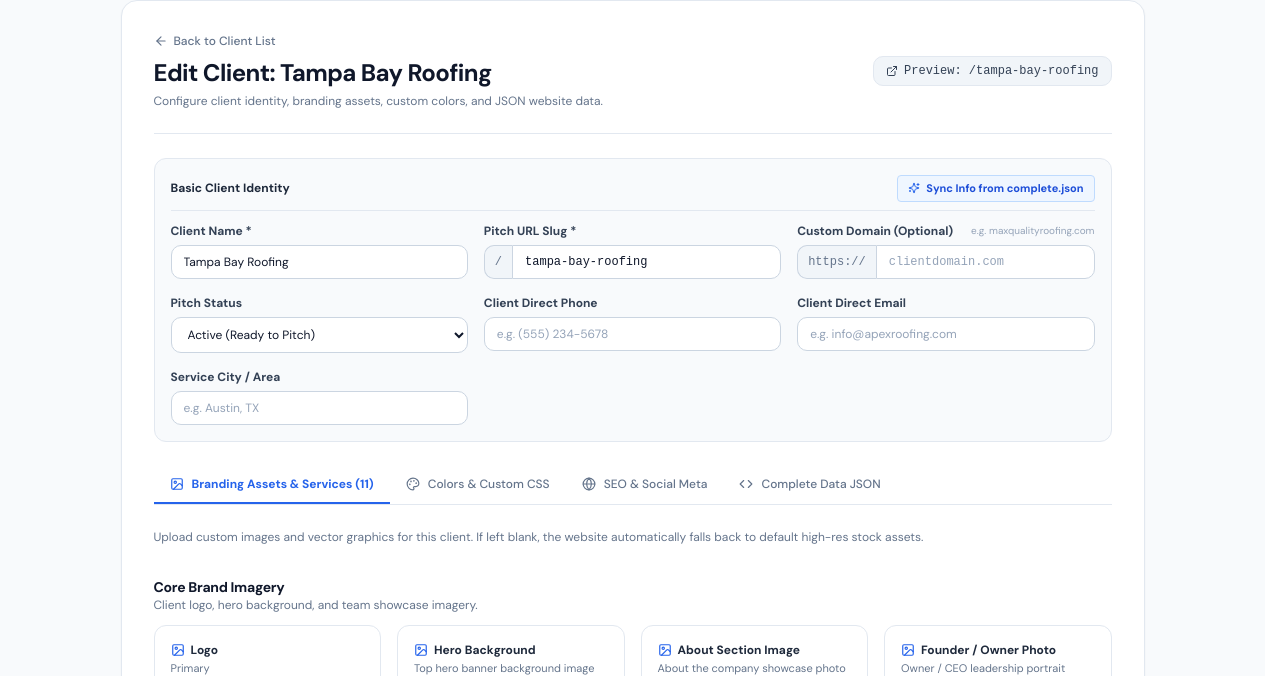
Test case: ClientEditor Component › switches to SEO & Social Meta tab and renders Google and OpenGraph previews with auto-generation
The image size is (1280, 676).
Click the button "SEO & Social Meta" at (645, 484), box 566,466 -> 724,504
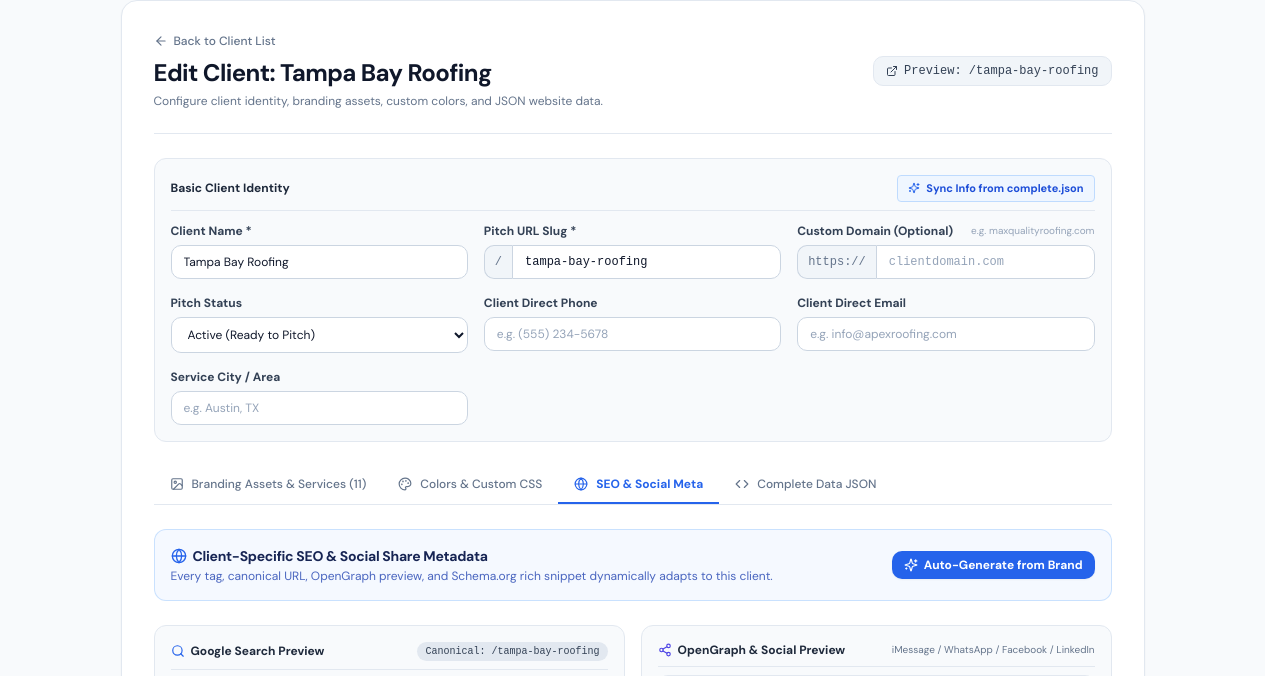
Result: the text "Google Search Preview" is shown at 170,643 -> 324,659
Result: the text "OpenGraph & Social Preview" is shown at 658,642 -> 845,658
Result: the button "Auto-Generate from Brand" is shown
Click the button "Auto-Generate from Brand" at (993, 564), box 892,550 -> 1094,578
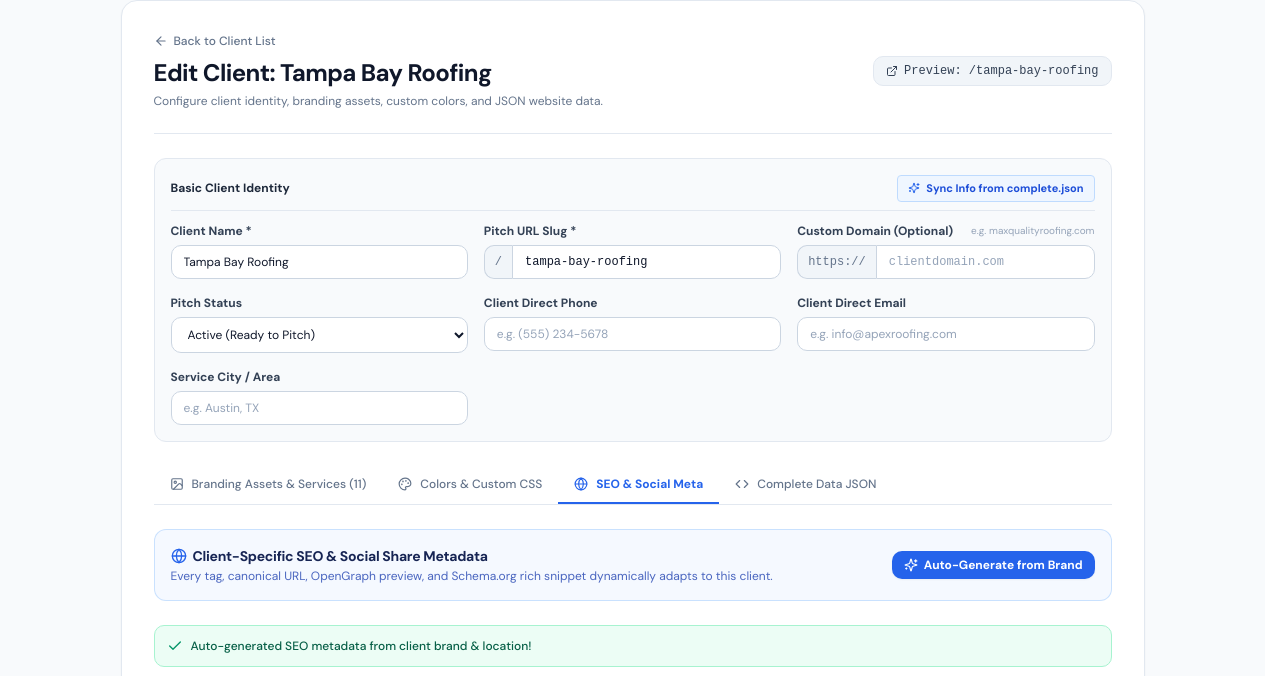
Result: the text "Auto-generated SEO metadata from client brand & location!" is shown at 154,624 -> 1112,666
